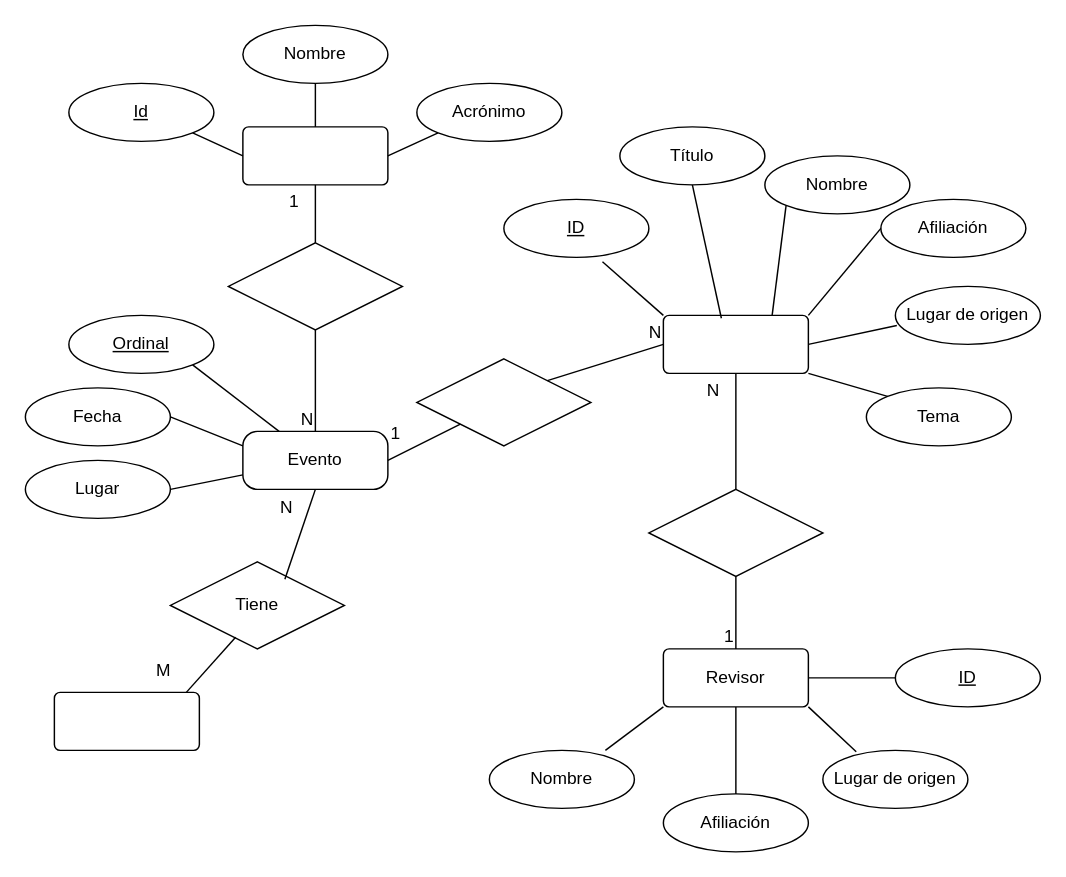
This 1066x877 diagram has some shape labels left out. The centre of each missing label's shape, as x and y in pixels:
"Artículo" goes at [735,343].
"Celebrar" goes at [314,285].
"CFP" goes at [126,720].
"Conferencia" goes at [314,155].
"Presentar" goes at [503,401].
"Revisar" goes at [735,532].
